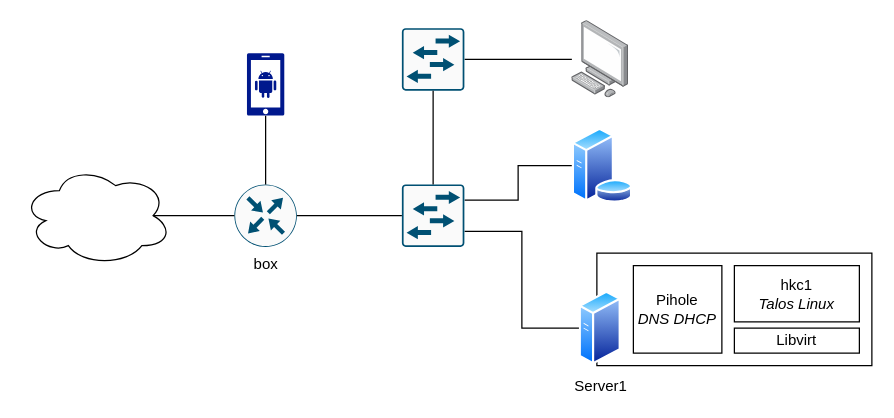
This 894x418 diagram has some shape labels left out. Here are the shapes that lost their labels. From the top down, the centre of each, then its label:
At (602,165): "NAS".
At (96,215): "INTERNET".
